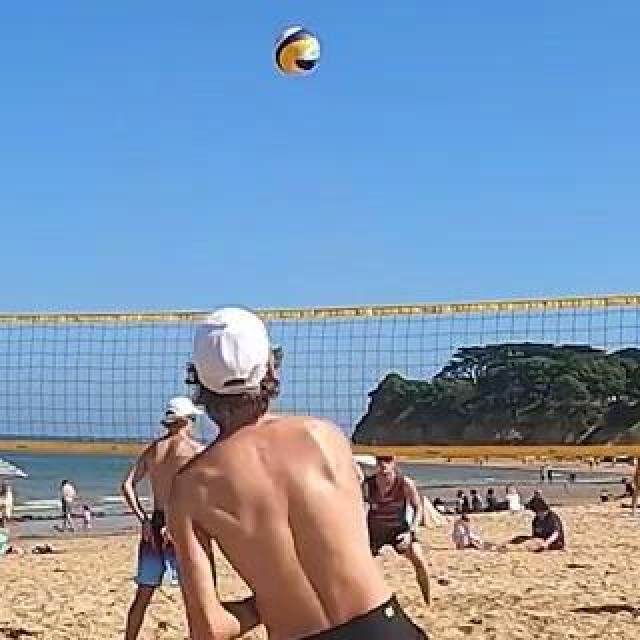volleyball: (275, 30, 319, 76)
